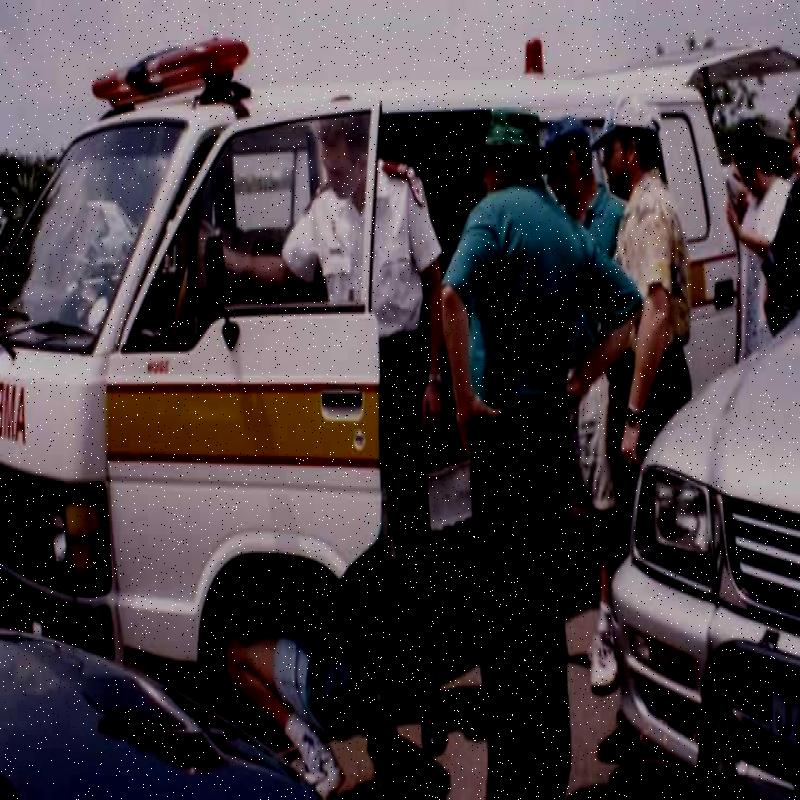AmbulanceSiren: (83, 34, 250, 122)
